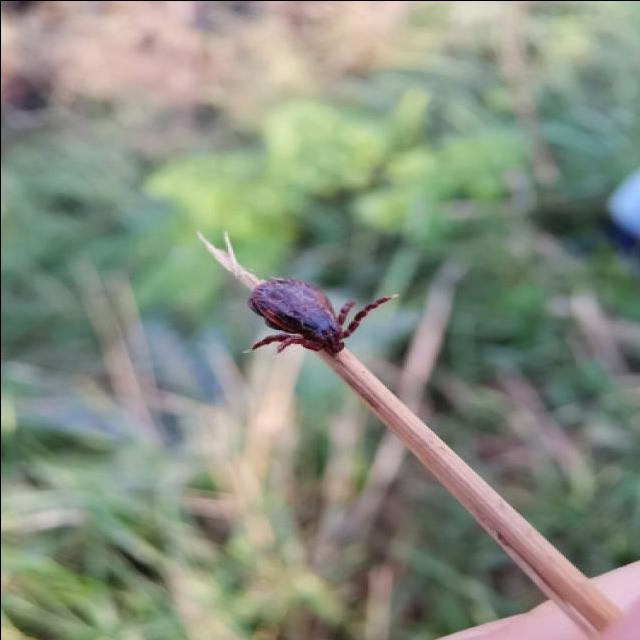Dermacentor Reticulatus-F: (247, 278, 391, 352)
